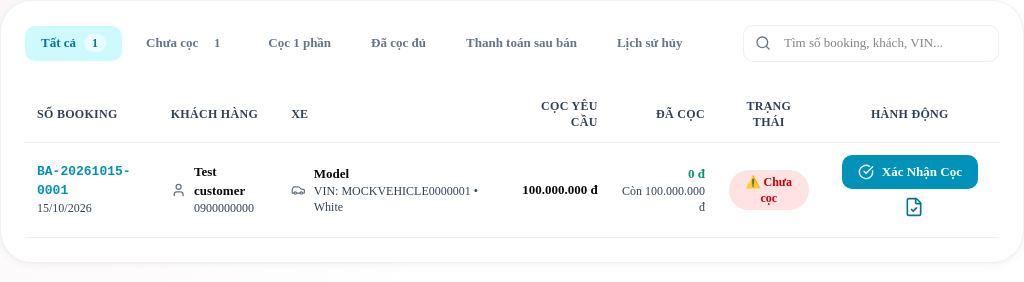
Scenario: keeps cancelled records accessible for refund history without a deposit action
Expected: the button "Xác Nhận Cọc" is shown, [842, 155, 978, 189]
Click the button "Lịch sử hủy".
click(650, 43)  # box [601, 26, 698, 61]
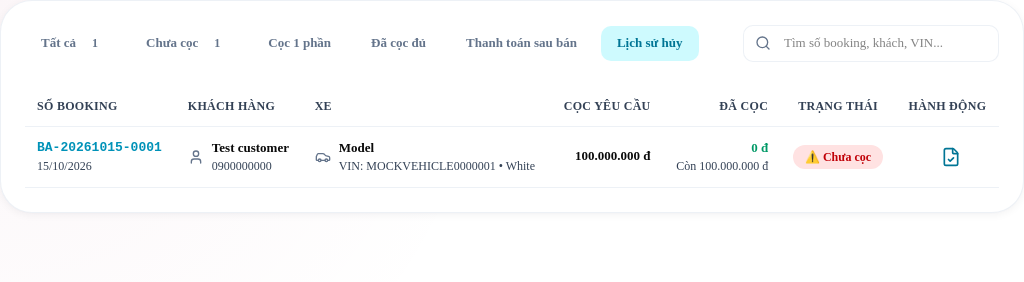
Expected: the button named "Hồ sơ bán xe" is shown, [933, 139, 969, 175]
Now the button "Xác Nhận Cọc" is gone
